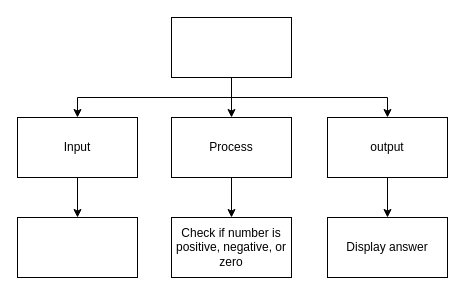
The diagram is 465 pixels wide and 295 high, and some of its shapes have lost their labels. Each missing label, with the centre of its shape:
"Get number" goes at point 77,247.
"Positive or Negative" goes at point 231,47.
